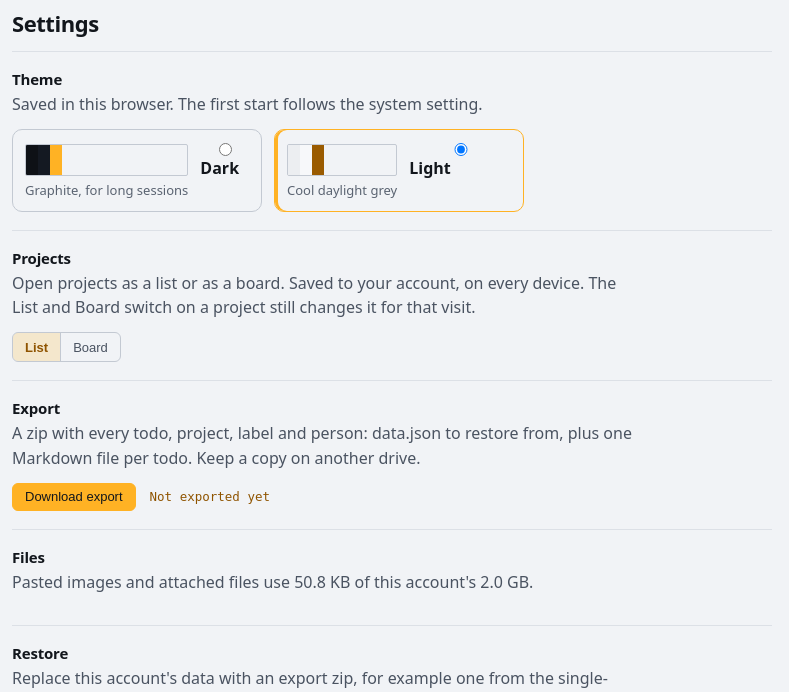
settings: projects › saves the board as the view projects open in, to the account (S5#3)
Click the button "Board".
click(90, 347)  # box [61,333,120,361]
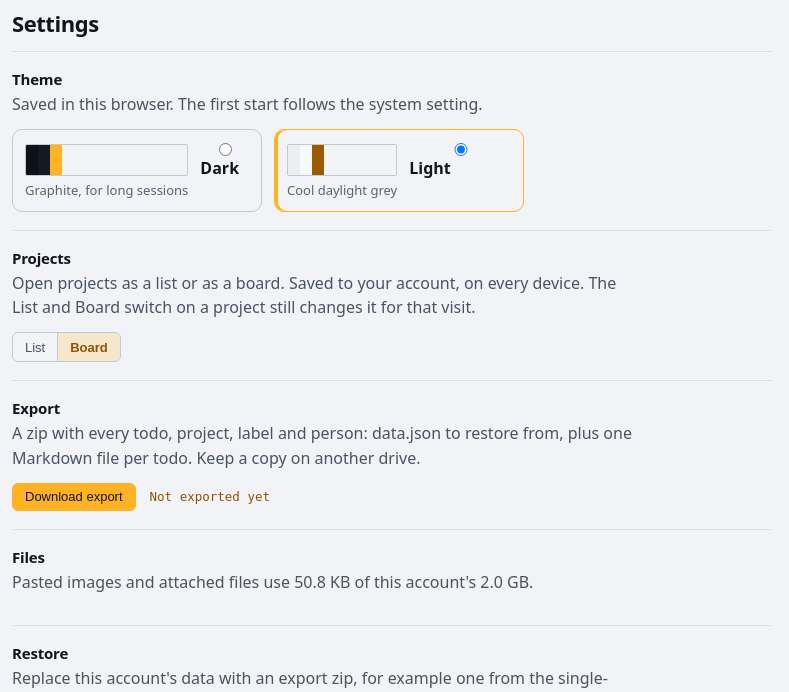
Result: the button "Board" is pressed at [58,333,120,361]
Result: the button "List" is not pressed at [13,333,58,361]
